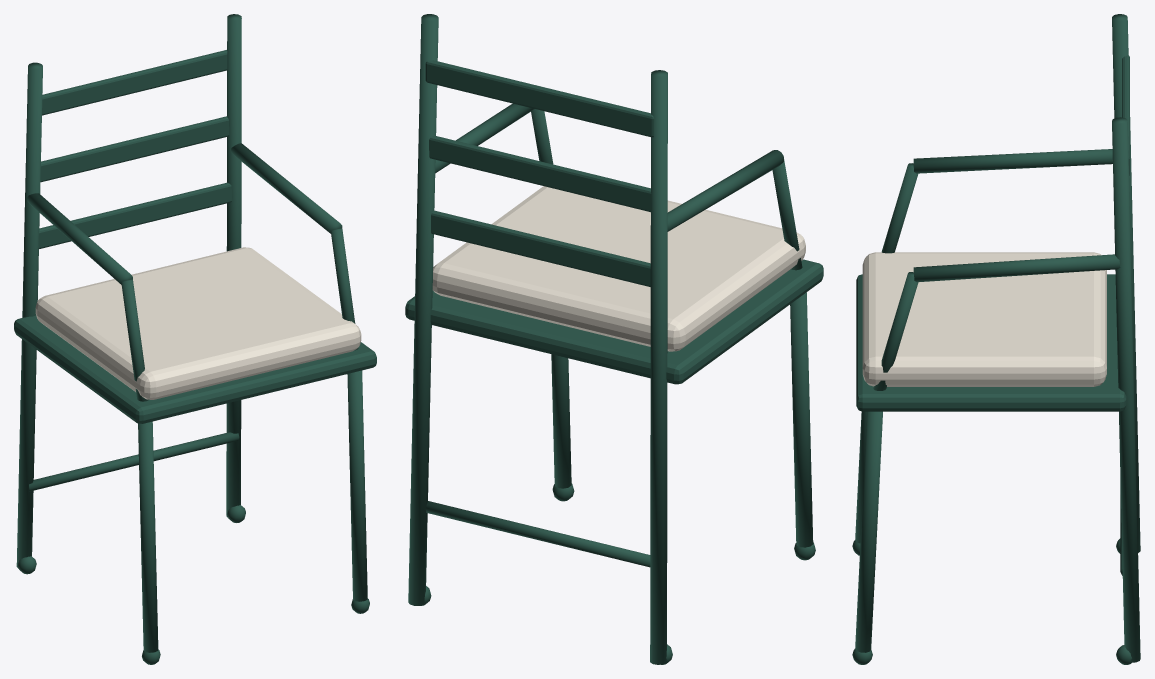
File: patioChair.glb
3 views of the same model, side by side, from view 1: azimuth 30°, elevation 25°; view 2: azimuth 150°, elevation 25°; view 3: azimuth 270°, elevation 25° (orthographic). The views are drawn at different scales.
Visible parts, largest first — view 1: patioChair; view 2: patioChair; view 3: patioChair.
Part boxes in pixels (x1,y1,x2,y2): patioChair: (14, 14, 376, 664); patioChair: (405, 14, 823, 664); patioChair: (852, 14, 1140, 664).
Size of the model in its own units: 0.46 by 0.9283 by 0.4483.
